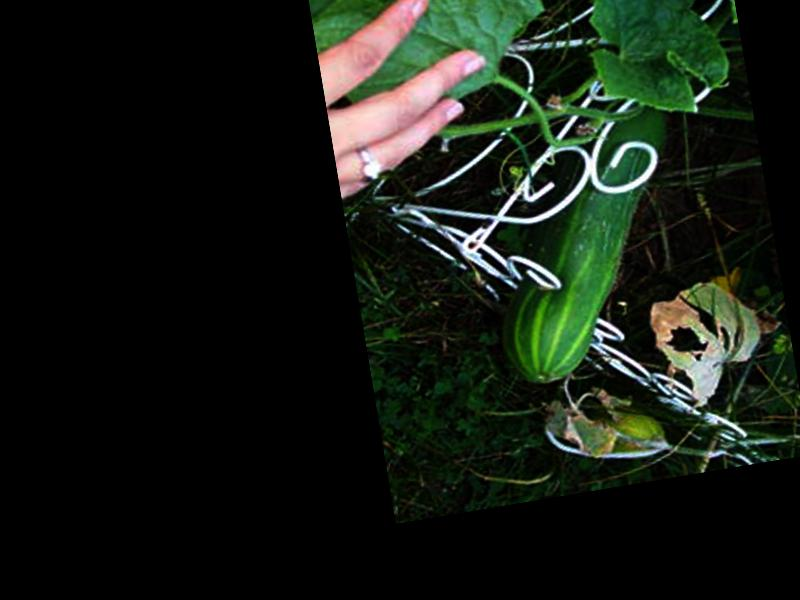Cucumber: (468, 100, 706, 388)
